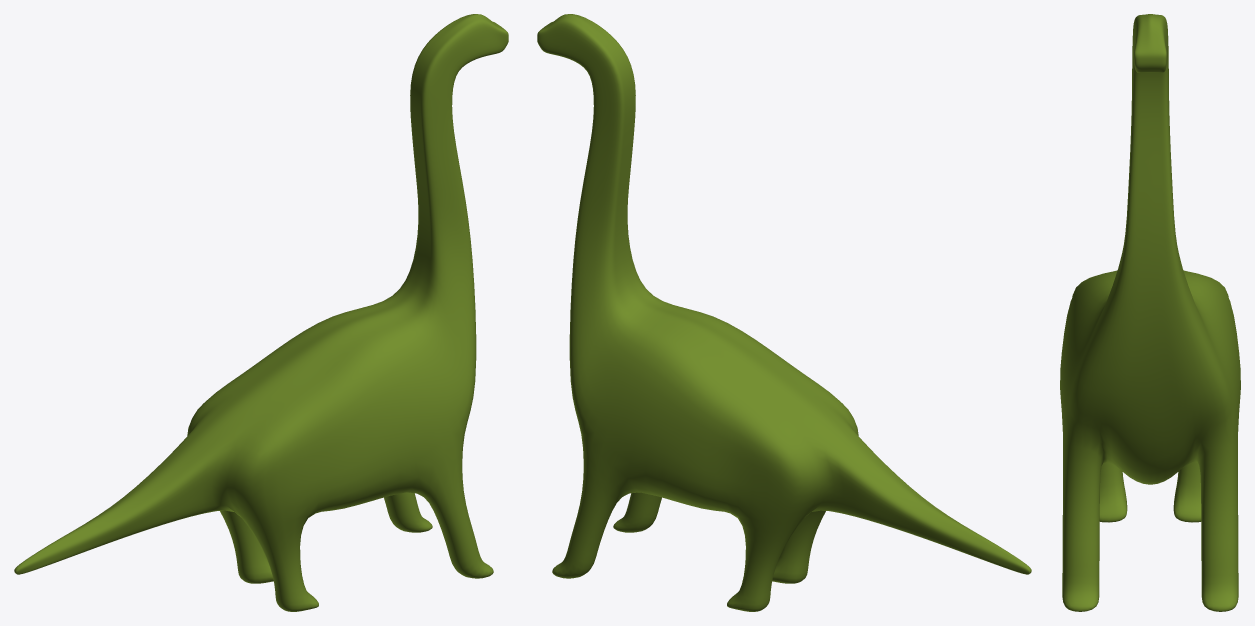
File: Dinosaur.fbx
3 views of the same model, side by side, from view 1: azimuth 30°, elevation 25°; view 2: azimuth 150°, elevation 25°; view 3: azimuth 270°, elevation 25° (orthographic). The views are drawn at different scales.
Visible parts, largest first — view 1: Plane; view 2: Plane; view 3: Plane.
Boxes of the visible parts, x1,y1,x2,y2 form: Plane: (14, 14, 508, 611); Plane: (537, 14, 1031, 611); Plane: (1060, 14, 1240, 611).
Size of what is drawn, in the model's own units: 390 by 406 by 110.
